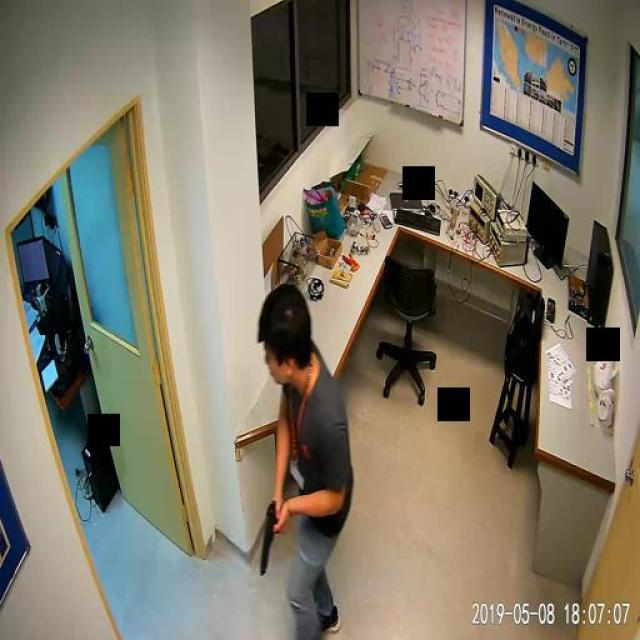gun: (259, 495, 280, 575)
